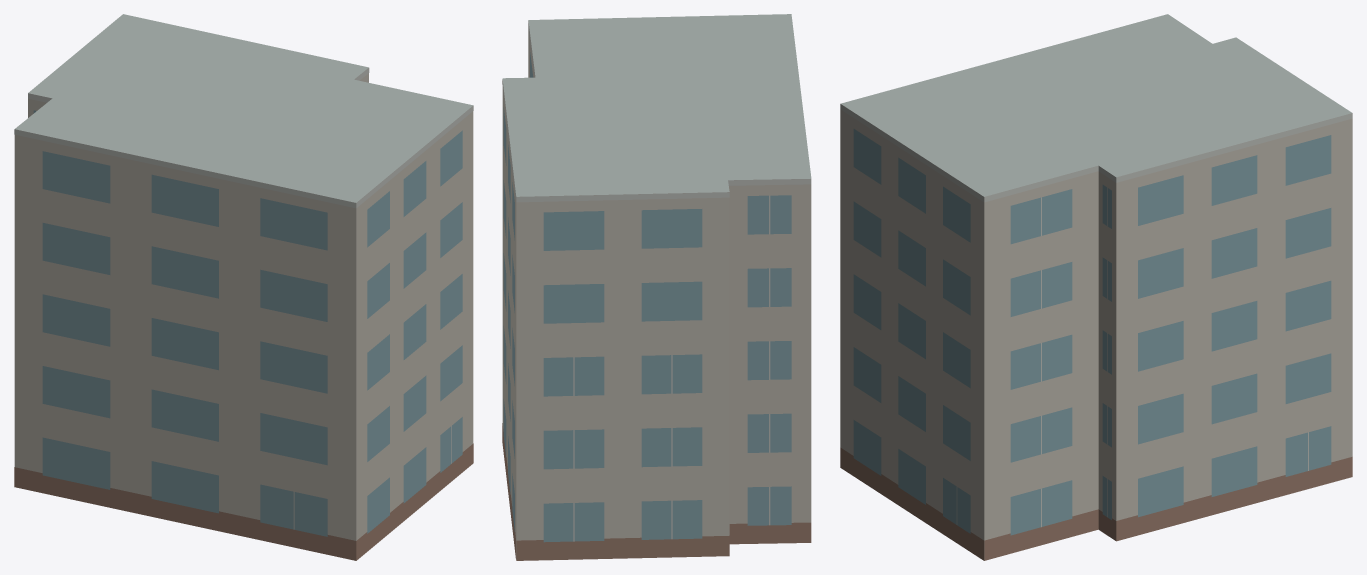
Rendered from survey-upis-32793382.glb.
3 views of the same model, side by side, from view 1: azimuth 30°, elevation 25°; view 2: azimuth 150°, elevation 25°; view 3: azimuth 270°, elevation 25° (orthographic).
Visible parts, largest first — view 1: survey-upis-32793382.tmp; view 2: survey-upis-32793382.tmp; view 3: survey-upis-32793382.tmp.
Boxes of the visible parts, bbox=[...] form: survey-upis-32793382.tmp: bbox=[14, 14, 473, 560]; survey-upis-32793382.tmp: bbox=[502, 14, 811, 560]; survey-upis-32793382.tmp: bbox=[840, 14, 1352, 560].
Size of the model in its own units: 17.2 by 15.95 by 20.35.
